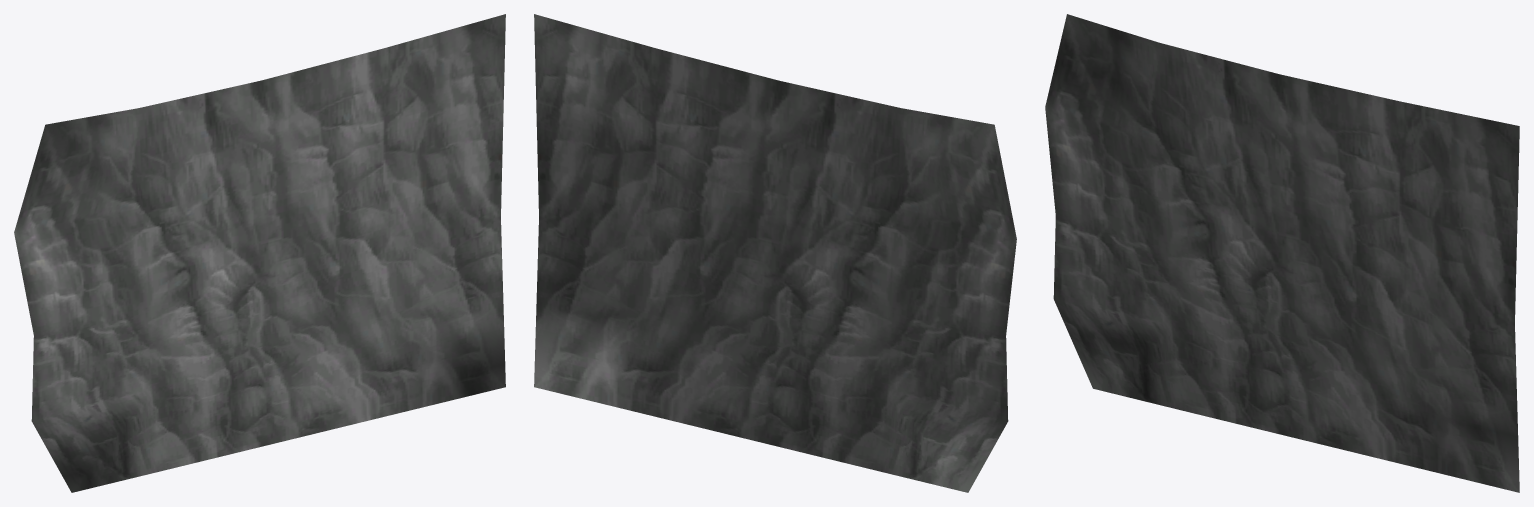
Rendered from SWORDLIGHT20_PS-AREA01_30.fbx.
3 views of the same model, side by side, from view 1: azimuth 30°, elevation 25°; view 2: azimuth 150°, elevation 25°; view 3: azimuth 330°, elevation 25° (orthographic).
Parts seen in each view (by area): view 1: SWORDLIGHT20_PS-AREA01_30; view 2: SWORDLIGHT20_PS-AREA01_30; view 3: SWORDLIGHT20_PS-AREA01_30.
Part boxes in pixels (x1,y1,x2,y2): SWORDLIGHT20_PS-AREA01_30: (14,14,505,492); SWORDLIGHT20_PS-AREA01_30: (534,14,1016,492); SWORDLIGHT20_PS-AREA01_30: (1045,14,1519,492).
Bounding box in the file's own units: 54821 × 40295 × 876.
1 material, 1 textured.
